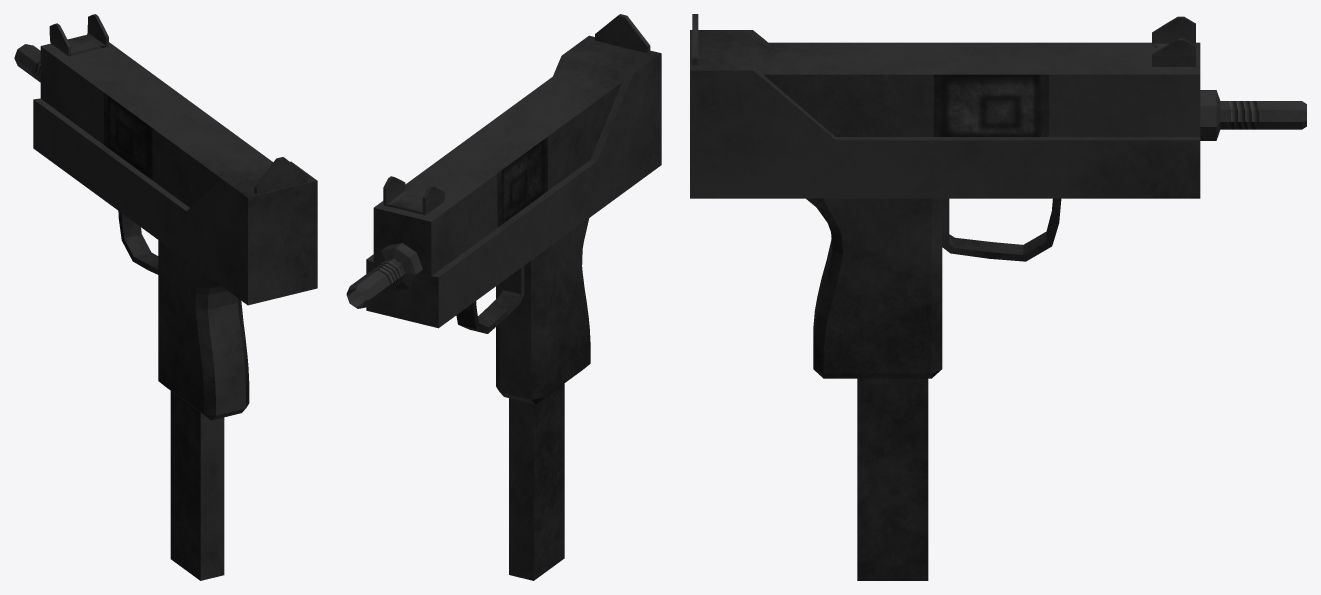
Rendered from pmaszynowy.obj.
The picture shows the model from 3 angles, left to right: view 1: azimuth 30°, elevation 25°; view 2: azimuth 150°, elevation 25°; view 3: azimuth 270°, elevation 25°; orthographic projection. The views are drawn at different scales.
Visible parts, largest first — view 1: Cylinder; view 2: Cylinder; view 3: Cylinder.
Boxes of the visible parts, left/top/right/bottom form: Cylinder: left=14, top=14, right=317, bottom=580; Cylinder: left=346, top=14, right=661, bottom=580; Cylinder: left=690, top=14, right=1306, bottom=580.
Size of the model in its own units: 0.7329 by 4.71 by 4.72.
